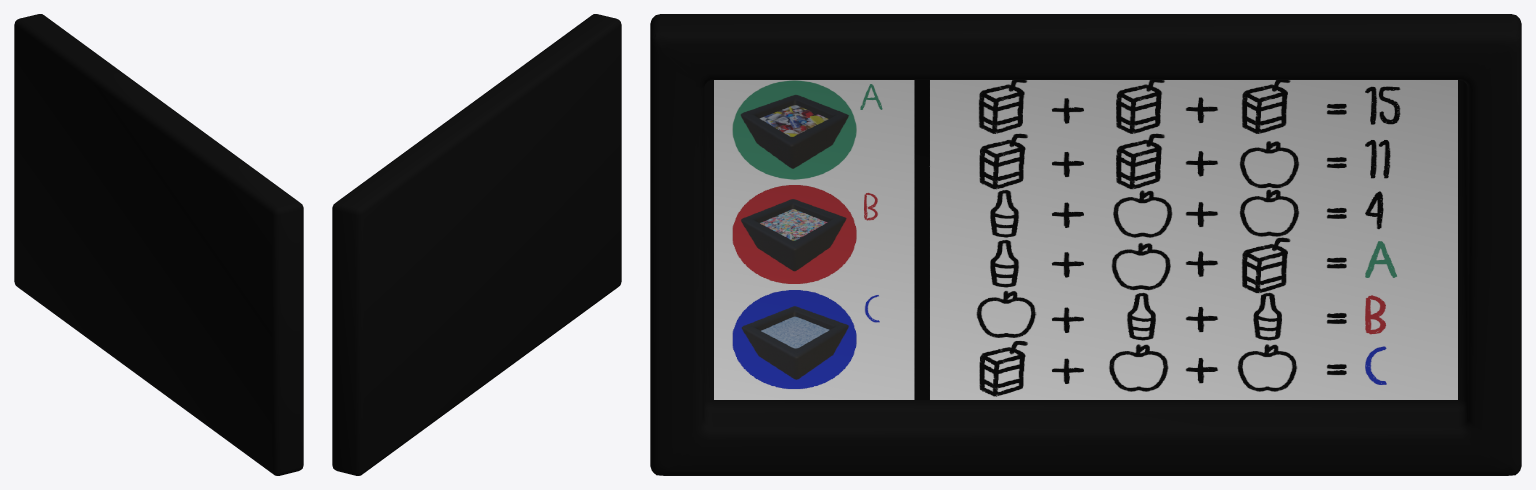
Rendered from CuadroLvl3.fbx.
3 views of the same model, side by side, from view 1: azimuth 30°, elevation 25°; view 2: azimuth 150°, elevation 25°; view 3: azimuth 270°, elevation 25° (orthographic). The views are drawn at different scales.
Visible parts, largest first — view 1: Cube; view 2: Cube; view 3: Cube.
Part boxes in pixels (bbox=[...]): Cube: bbox=[14, 14, 303, 475]; Cube: bbox=[332, 14, 621, 475]; Cube: bbox=[650, 14, 1521, 475].
Bounding box in the file's own units: 25.76 × 216 × 384.
Materials: 2 (1 with a texture image).
